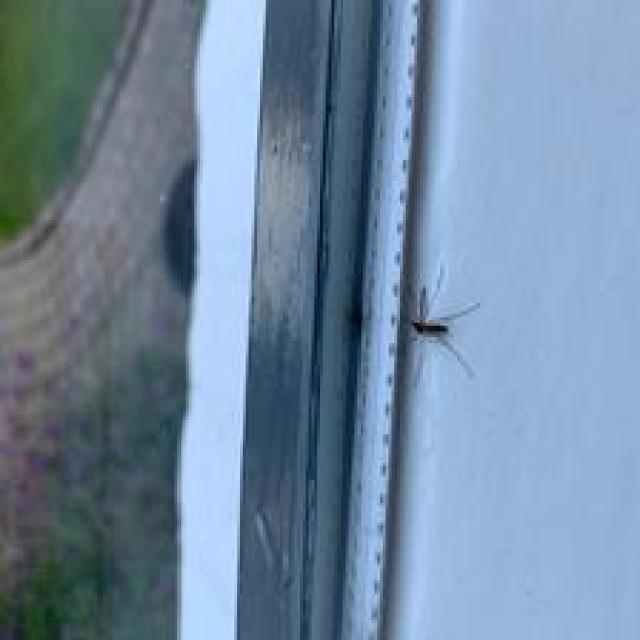Culex: (409, 283, 480, 377)
